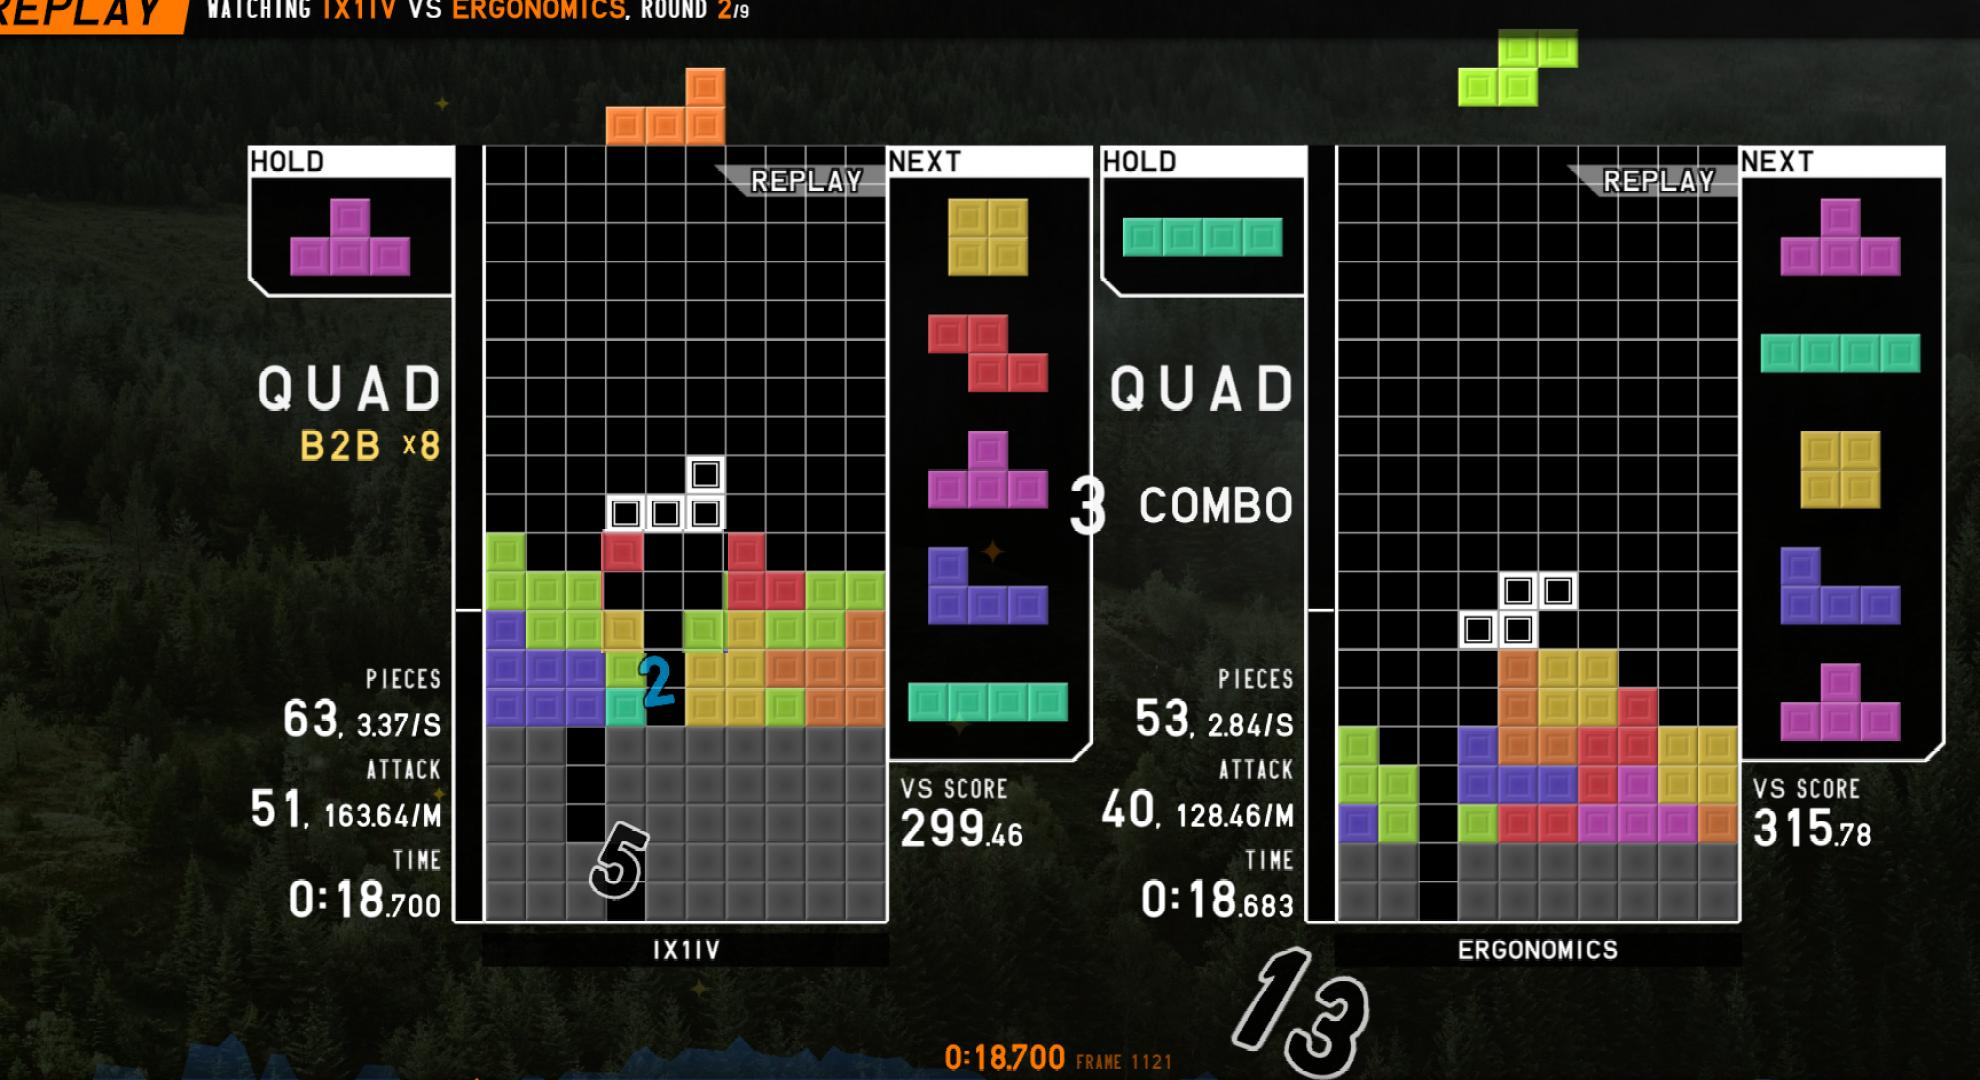tspin: (601, 529, 729, 653)
